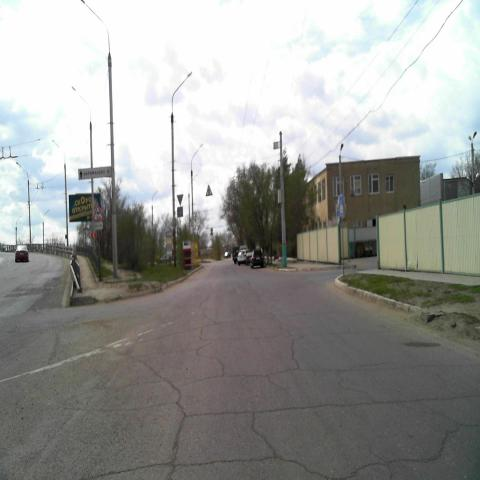1_15: (93, 204, 103, 221)
